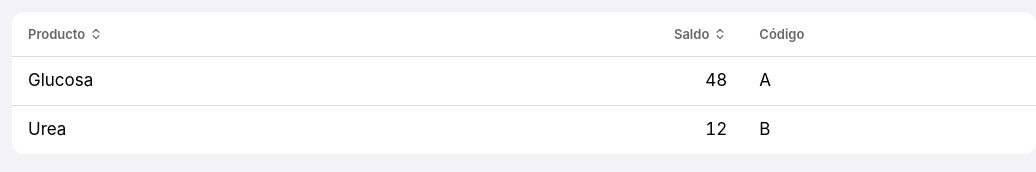
Scenario: Table › updates aria-sort when used controlled
This screenshot has width=1036, height=172.
Click the button "Saldo" at (692,34), box [419,12,743,56]
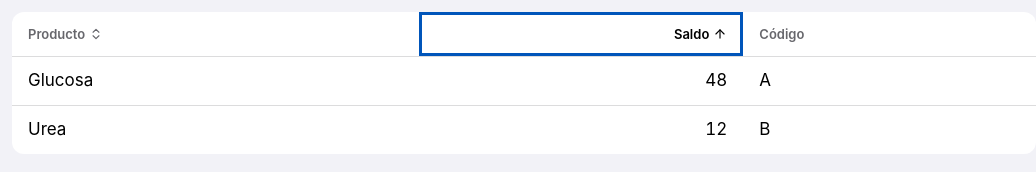
Expected: the column heading "Saldo" has attribute aria-sort="ascending", [419,12,743,56]
